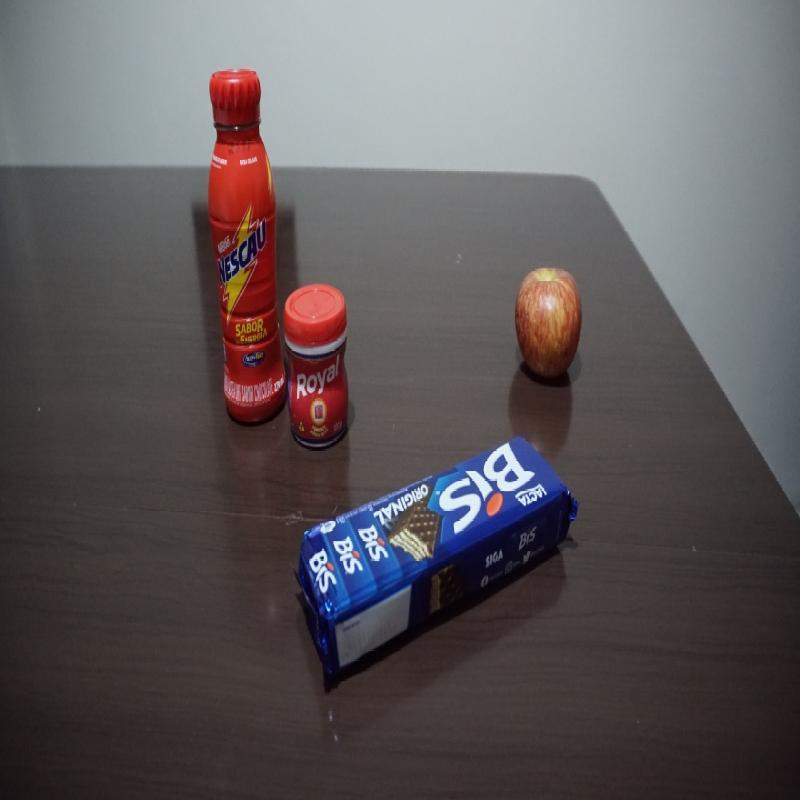Apple: (515, 264, 584, 380)
Chocolate Milk: (208, 67, 287, 425)
Yeast: (282, 282, 350, 451)
